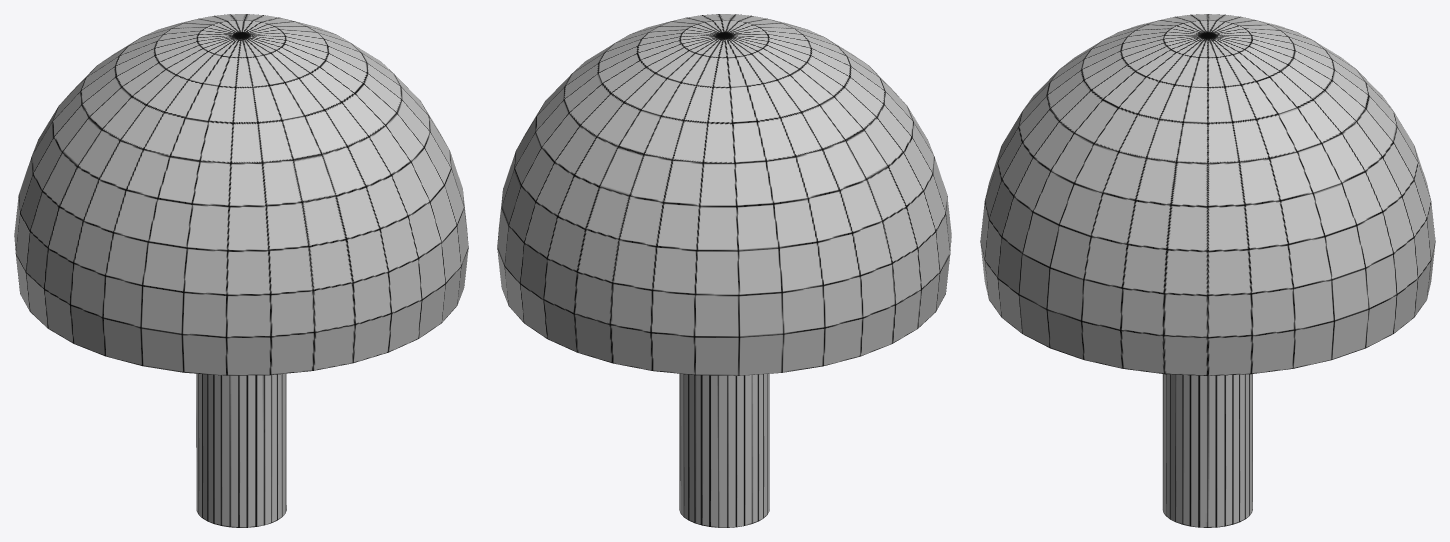
Rendered from Mushroom.fbx.
3 views of the same model, side by side, from view 1: azimuth 30°, elevation 25°; view 2: azimuth 150°, elevation 25°; view 3: azimuth 270°, elevation 25° (orthographic).
Parts seen in each view (by area): view 1: Sphere; view 2: Sphere; view 3: Sphere.
Part boxes in pixels (box(x1,y1,x2,y2)): Sphere: box(14, 14, 468, 527); Sphere: box(497, 14, 951, 527); Sphere: box(980, 14, 1435, 527).
Bounding box in the file's own units: 1839 × 2111 × 1839.
Materials: 1 (1 with a texture image).
